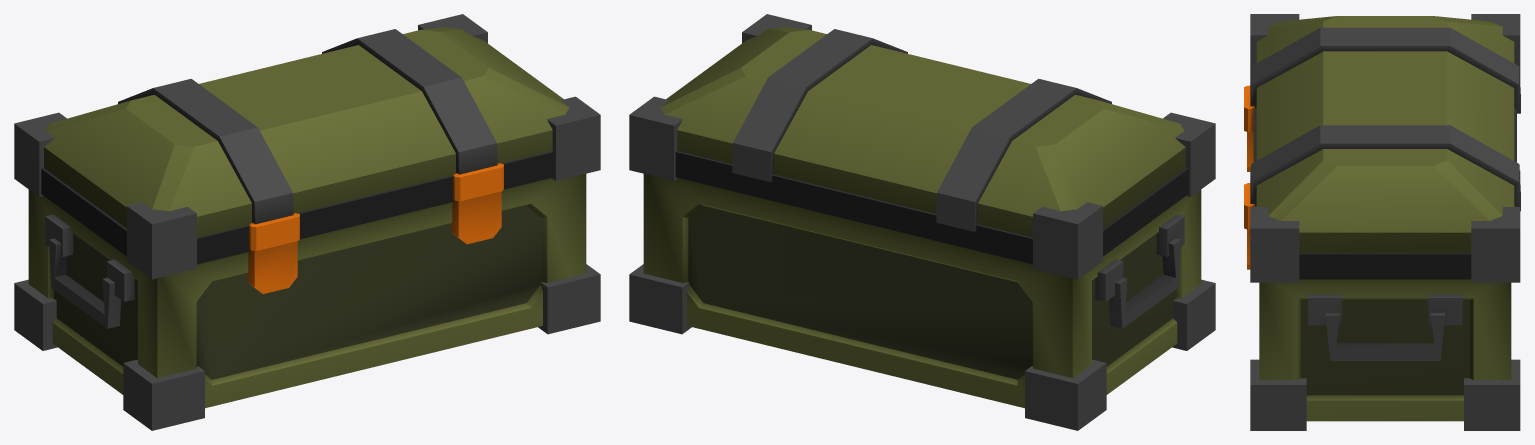
The model's file is chest.glb.
3 views of the same model, side by side, from view 1: azimuth 30°, elevation 25°; view 2: azimuth 150°, elevation 25°; view 3: azimuth 270°, elevation 25° (orthographic). The views are drawn at different scales.
Parts seen in each view (by area): view 1: chest; view 2: chest; view 3: chest.
Part boxes in pixels (box(x1,y1,x2,y2)): chest: box(14, 14, 600, 430); chest: box(629, 14, 1215, 430); chest: box(1244, 14, 1520, 430).
Bounding box in the file's own units: 1.1 × 0.56 × 0.59.
Materials: 1 (1 with a texture image).
